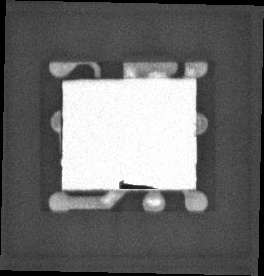DIE_BROKEN: (114, 179, 157, 191)
